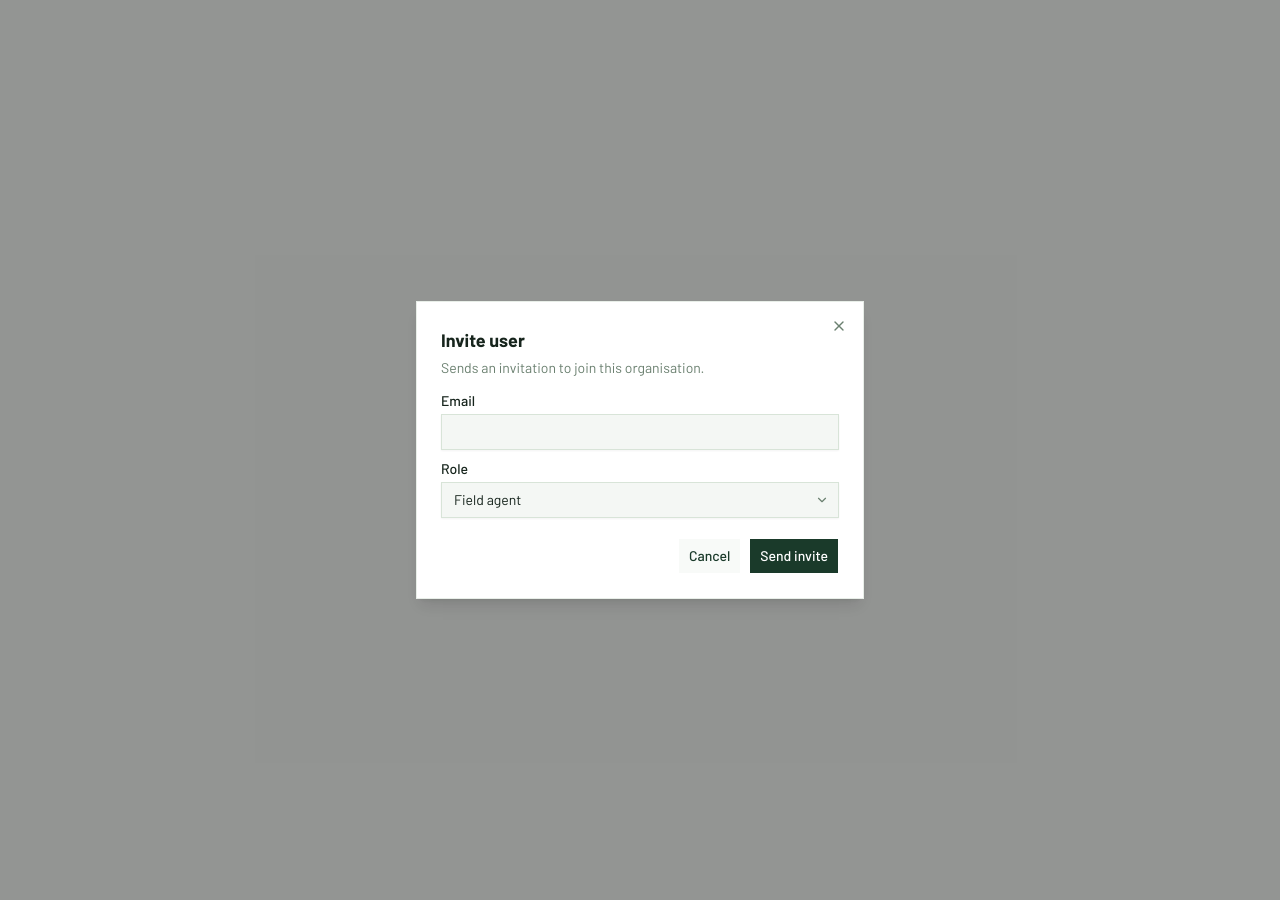
Test: UserInviteDialog › shows a validation error for an invalid email
Type "not-an-email" into the field labelled "Email" at [640, 432], box 441,414 -> 839,450
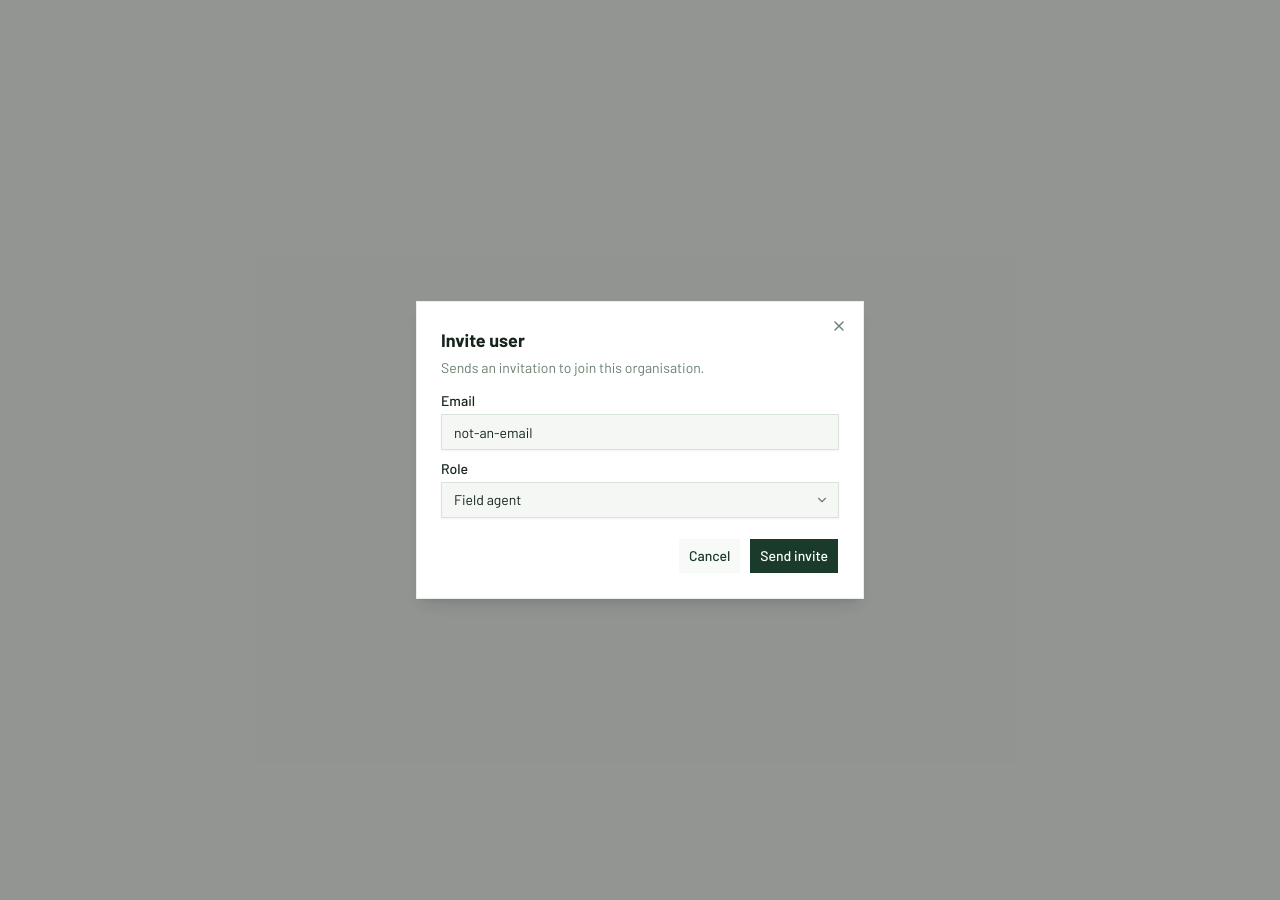
Click the button "Send invite" at [794, 556], box 749,538 -> 839,574
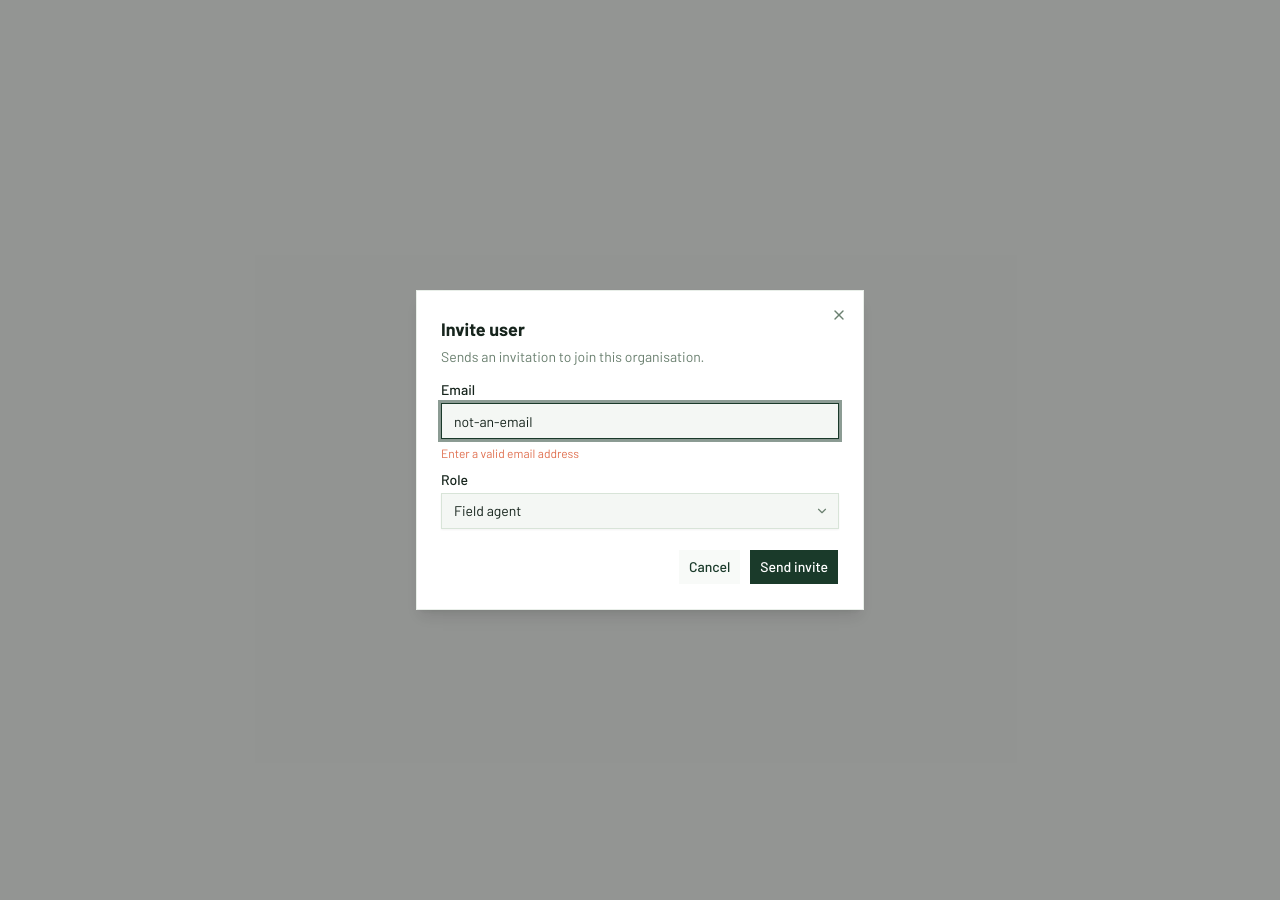
Expected: the text "Enter a valid email address" is shown, 441,446 -> 579,460
